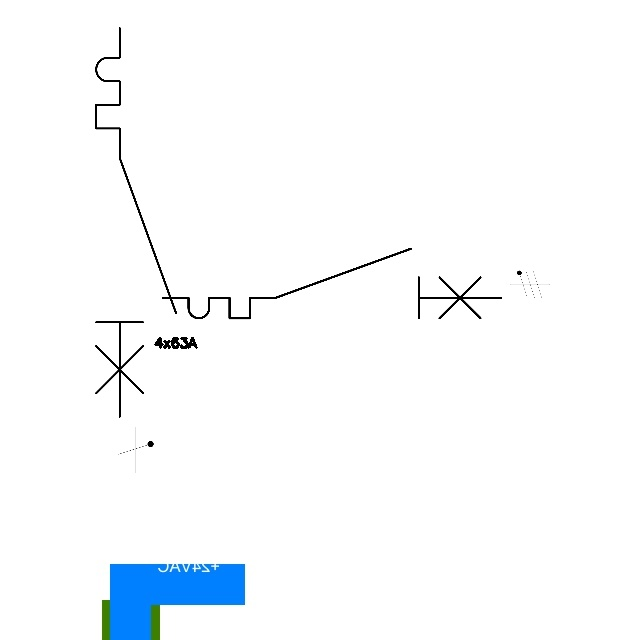interruptor_termomagnetico: (86, 18, 186, 426), (154, 240, 509, 327)
